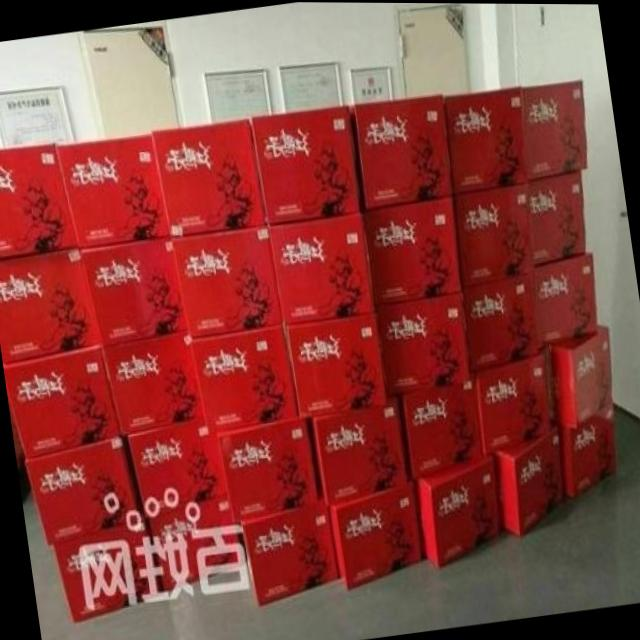box: (3, 345, 122, 459), (152, 117, 266, 236), (56, 133, 171, 250), (251, 105, 360, 225), (171, 223, 283, 337), (26, 436, 138, 547), (188, 324, 298, 434), (266, 212, 374, 324), (79, 236, 188, 345), (0, 248, 101, 365), (353, 92, 453, 208), (53, 517, 162, 623), (362, 198, 462, 305), (284, 312, 387, 415), (100, 332, 204, 434), (218, 416, 320, 520), (326, 482, 423, 591), (241, 501, 342, 605), (312, 399, 409, 505), (415, 452, 501, 571), (374, 291, 470, 395), (128, 421, 228, 517), (446, 86, 529, 194), (0, 143, 78, 257), (452, 185, 534, 290), (147, 499, 241, 590), (397, 380, 484, 477), (464, 271, 545, 373), (492, 431, 564, 535), (475, 354, 551, 452), (521, 79, 587, 181), (548, 320, 611, 426), (525, 169, 585, 268), (559, 400, 616, 499), (536, 250, 596, 342)
